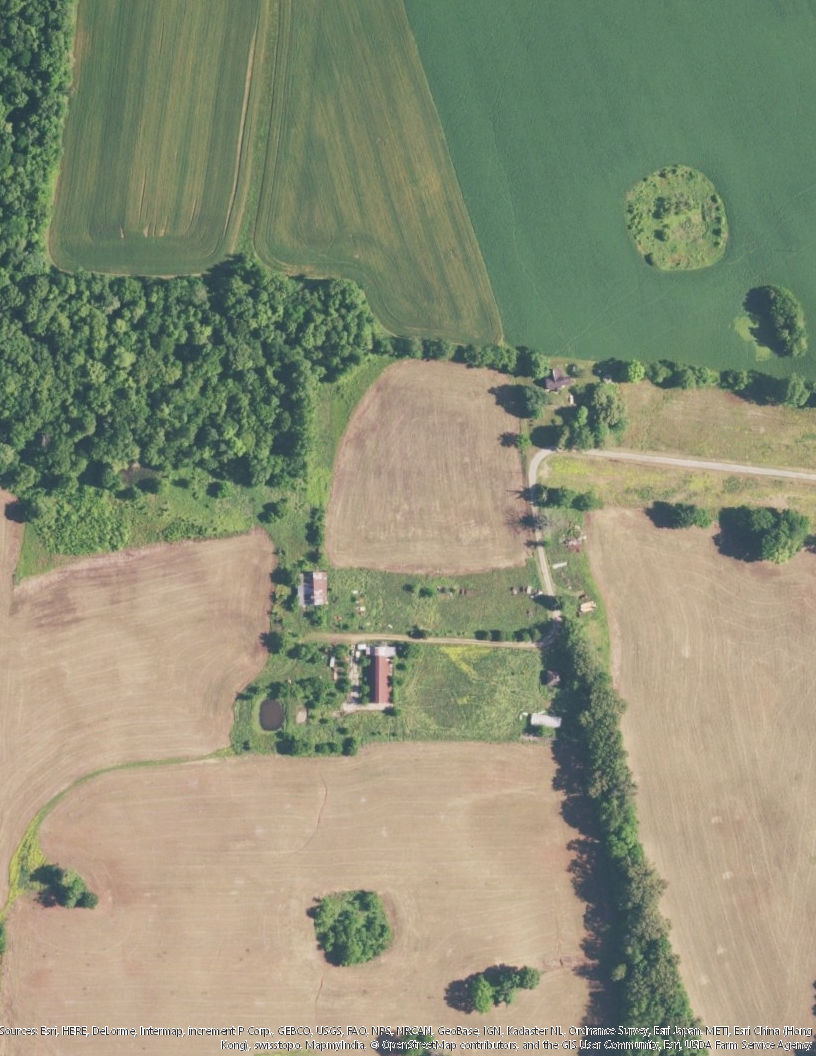cafo: (356, 640, 401, 706), (291, 566, 337, 608)
